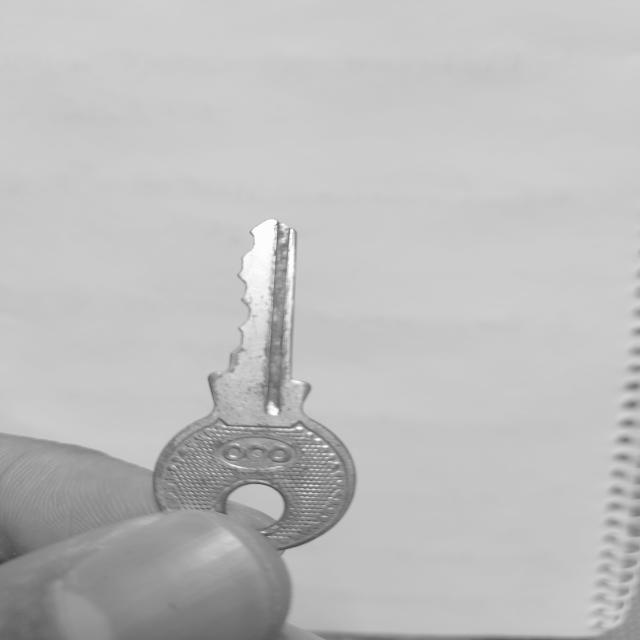KEY: (153, 219, 355, 550)
